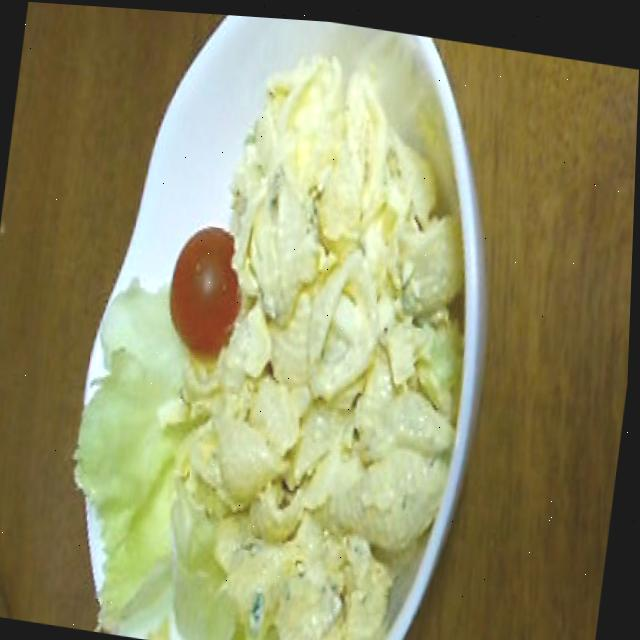蔬菜料理: (56, 4, 508, 640)
